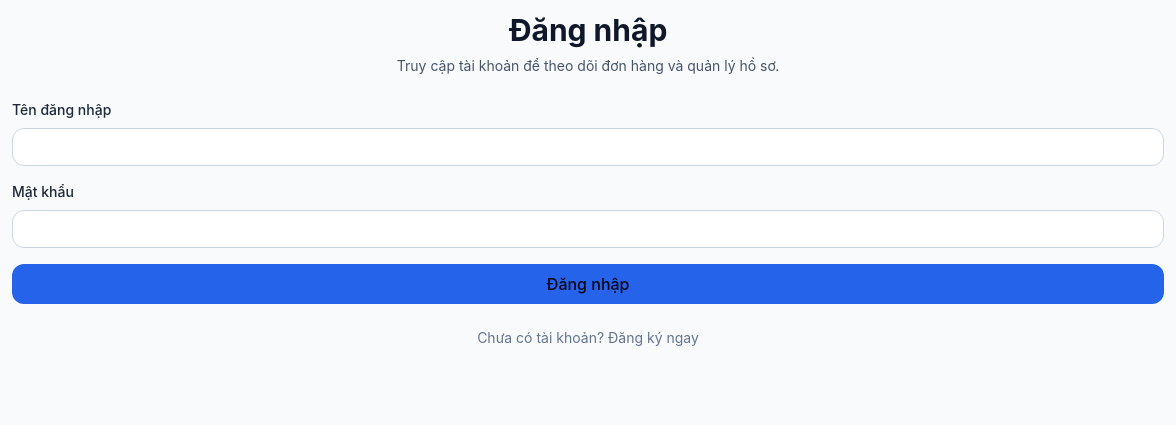
it: LoginPage › renders an accessible inline error when login fails
Type "alice" into the field labelled "Tên đăng nhập". click: (588, 147)
box: [12,128,1164,166]
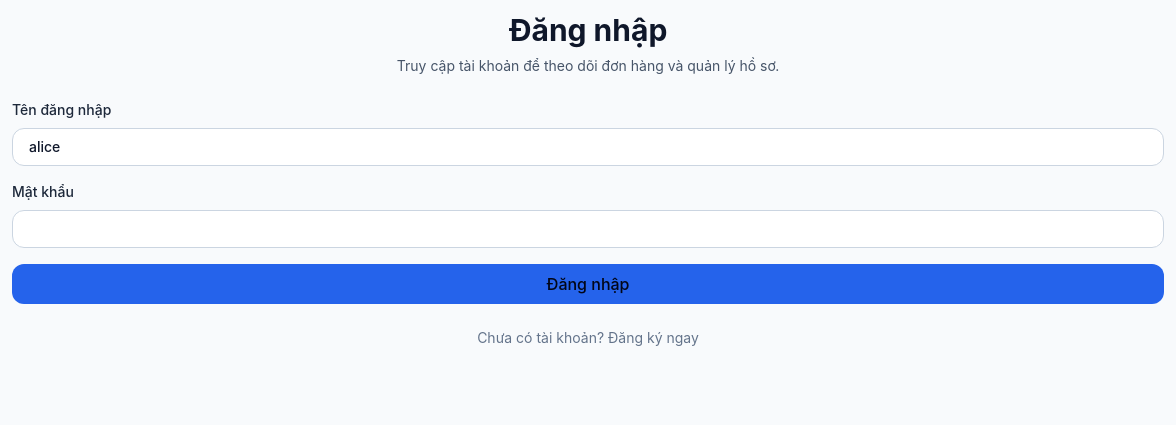
Type "WrongPassword1!" into the password field labelled "Mật khẩu". click: (588, 229)
box: [12,210,1164,248]
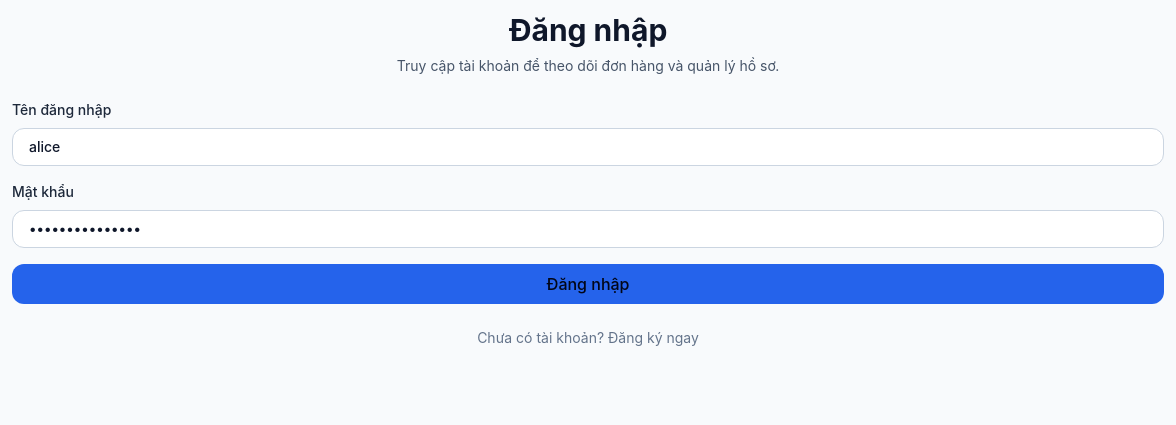
Click the button "Đăng nhập". click: (588, 284)
box: [12,264,1164,304]
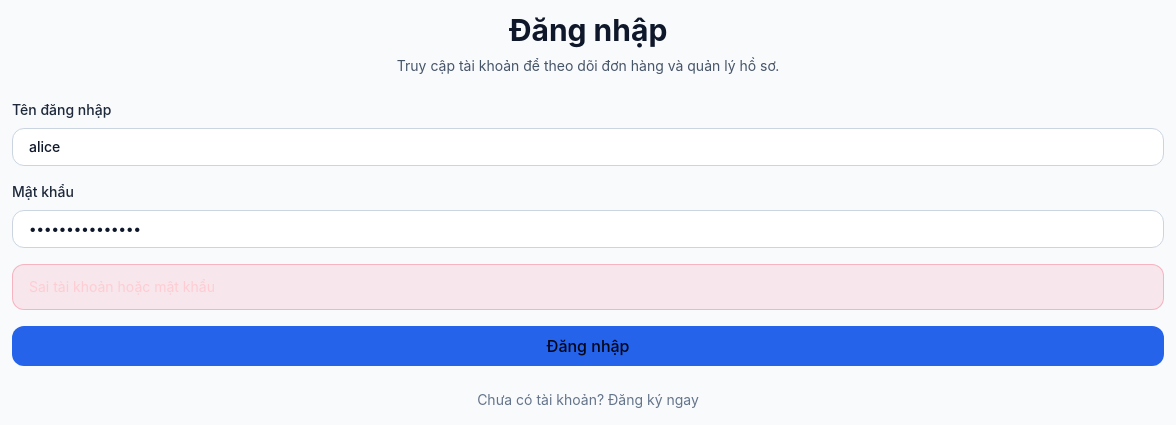
Result: the message reads "Sai tài khoản hoặc mật khẩu" at [29,278,215,295]
